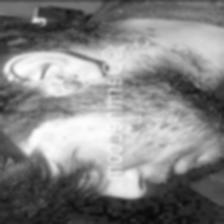Toxin: (128, 119, 176, 152), (163, 47, 210, 68), (118, 27, 158, 49), (52, 74, 82, 88)
